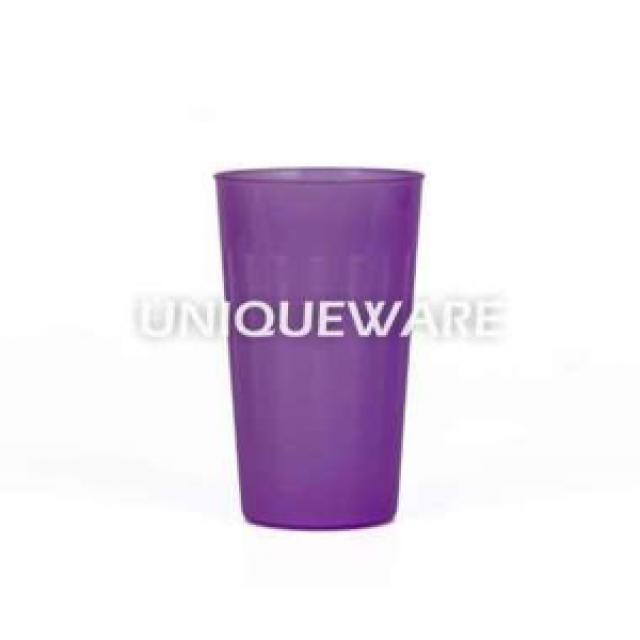plastic cup: (205, 151, 435, 540)
